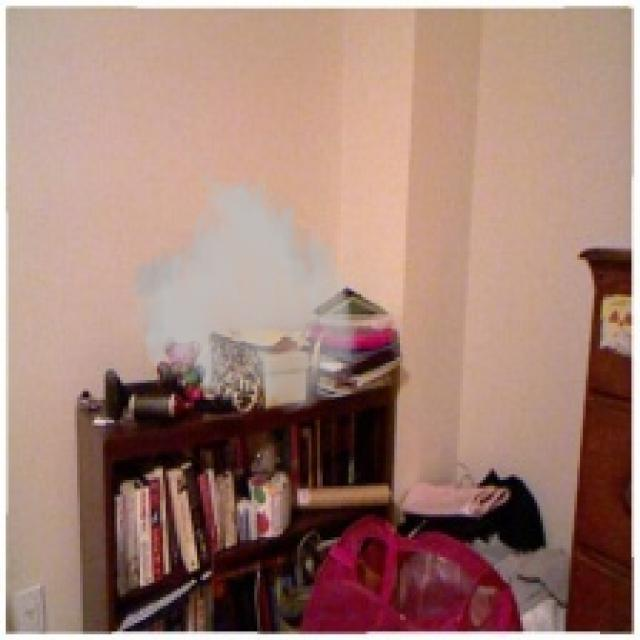Smoke: (126, 166, 360, 417)
